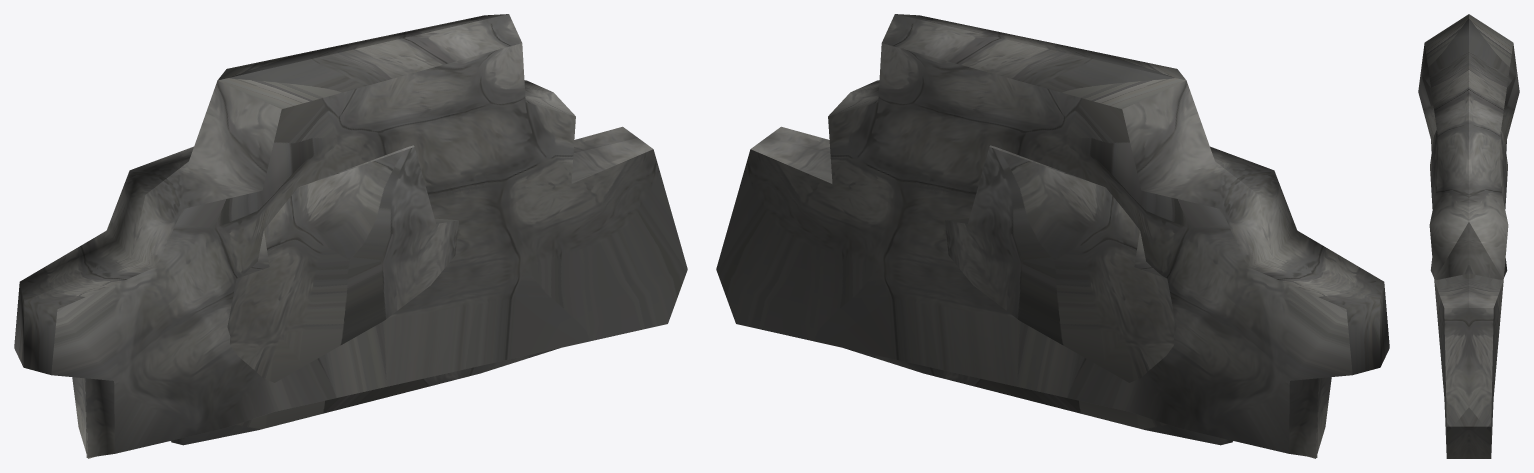
The model's file is Ruined_Walls_Pack.fbx.
3 renders of one model, left to right at view 1: azimuth 30°, elevation 25°; view 2: azimuth 150°, elevation 25°; view 3: azimuth 270°, elevation 25°, orthographic. The views are drawn at different scales.
Visible parts, largest first — view 1: Ruined_Wall_2, Ruined_Wall_1; view 2: Ruined_Wall_2, Ruined_Wall_1; view 3: Ruined_Wall_2, Ruined_Wall_1.
Boxes of the visible parts, left/top/right/bottom form: Ruined_Wall_2: left=14, top=14, right=687, bottom=458; Ruined_Wall_1: left=171, top=145, right=558, bottom=445; Ruined_Wall_2: left=716, top=14, right=1389, bottom=458; Ruined_Wall_1: left=845, top=145, right=1232, bottom=445; Ruined_Wall_2: left=1418, top=14, right=1519, bottom=458; Ruined_Wall_1: left=1430, top=130, right=1507, bottom=208.
Bounding box in the file's own units: 295 × 152 × 49.63.
